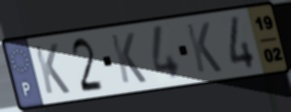2: (70, 36, 106, 95)
4: (151, 23, 182, 84), (228, 12, 257, 72)
K: (108, 30, 149, 86), (31, 41, 72, 96), (183, 20, 224, 75)
